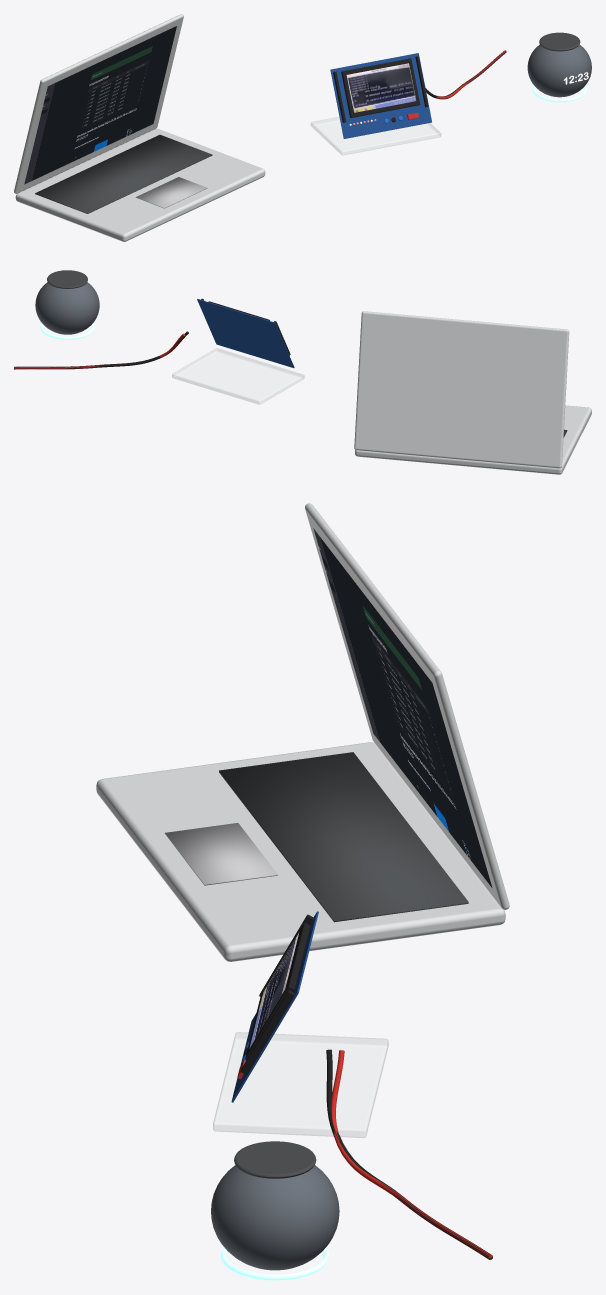
3 renders of one model, top to bottom at view 1: azimuth 30°, elevation 25°; view 2: azimuth 150°, elevation 25°; view 3: azimuth 270°, elevation 25°, orthographic. The views are drawn at different scales.
Parts seen in each view (by area): view 1: lp_screen, lp_base, lp_deck, lp_lid_shell, de_pcb_board, echo_body, de_lcd, de_easel_base, lp_pad, de_lcd_frame, echo_top; view 2: lp_lid_shell, de_easel_base, de_pcb_board, echo_body, lp_base, echo_top, de_usb, de_usb.001; view 3: lp_base, lp_deck, lp_screen, de_easel_base, echo_body, lp_lid_shell, lp_pad, echo_top, de_usb.001, de_usb, de_lcd, de_lcd_frame (+1 smaller).
Boxes of the visible parts, box(x1,y1,x2,y2) form: lp_screen: box(24, 26, 176, 184); lp_base: box(15, 128, 265, 241); lp_deck: box(35, 134, 212, 213); lp_lid_shell: box(14, 14, 183, 193); de_pcb_board: box(330, 53, 431, 138); echo_body: box(527, 44, 591, 97); de_lcd: box(346, 63, 416, 112); de_easel_base: box(311, 117, 440, 155); lp_pad: box(135, 177, 207, 208); de_lcd_frame: box(341, 58, 420, 117); echo_top: box(539, 32, 580, 51); lp_lid_shell: box(354, 311, 569, 468); de_easel_base: box(172, 348, 304, 404); de_pcb_board: box(197, 299, 294, 367); echo_body: box(35, 282, 99, 334); lp_base: box(355, 405, 591, 474); echo_top: box(47, 270, 87, 288); de_usb: box(14, 331, 188, 369); de_usb.001: box(14, 333, 185, 369); lp_base: box(96, 742, 505, 961); lp_deck: box(219, 752, 468, 922); lp_screen: box(313, 528, 492, 887); de_easel_base: box(213, 1032, 388, 1137); echo_body: box(211, 1165, 339, 1270); lp_lid_shell: box(305, 503, 509, 909); lp_pad: box(164, 823, 277, 885); echo_top: box(234, 1141, 316, 1178); de_usb.001: box(331, 1050, 492, 1259); de_usb: box(326, 1049, 492, 1259); de_lcd: box(249, 932, 299, 1048); de_lcd_frame: box(245, 923, 310, 1059).
Size of the model in its own units: 0.9824 by 0.2264 by 0.3211.
Materials: 17 (2 with a texture image).
